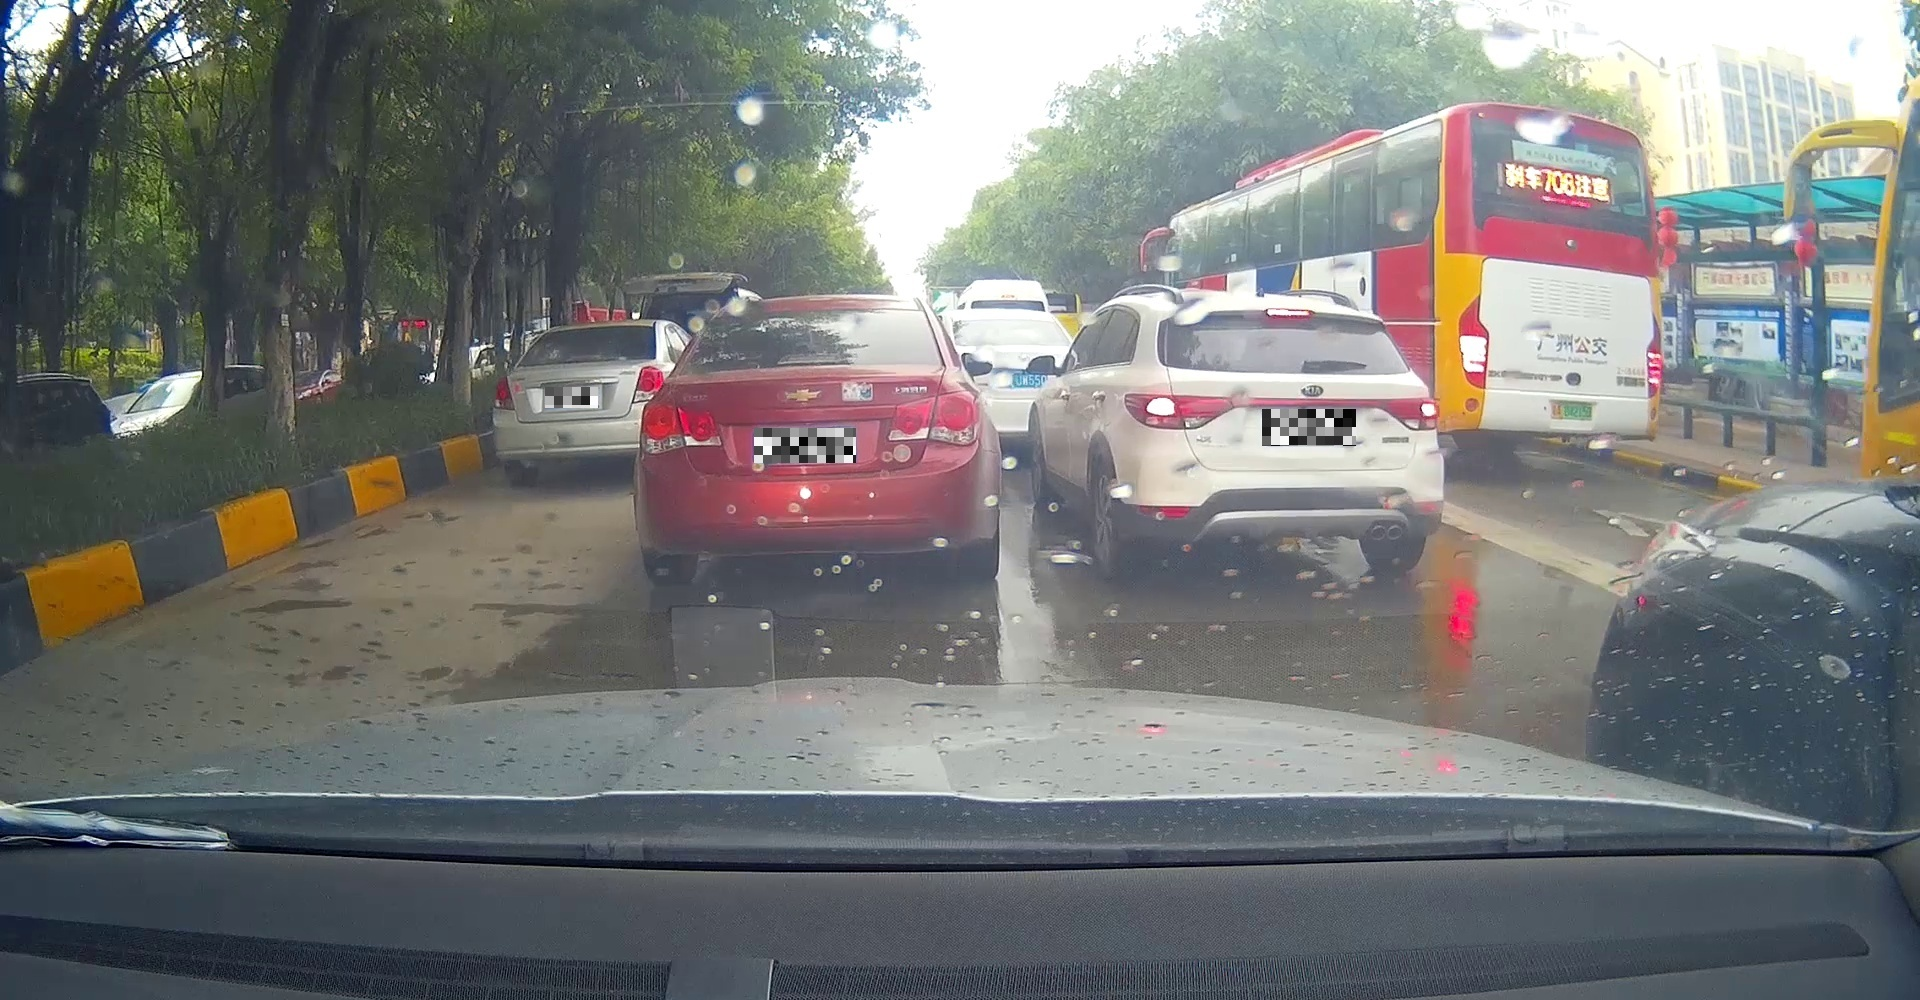L_light: (639, 401, 723, 456), (1124, 393, 1234, 430), (1458, 294, 1490, 390)
R_light: (888, 390, 980, 445), (1380, 398, 1441, 431), (1646, 310, 1662, 398)
T_light: (1539, 195, 1592, 208), (1266, 308, 1316, 319), (777, 360, 844, 365)
day-brake: (1121, 289, 1443, 582), (1443, 102, 1663, 457)
day-no: (632, 293, 1001, 586)
plate_1: (545, 387, 598, 409)
plate_2: (754, 428, 856, 463), (1262, 409, 1356, 445)
